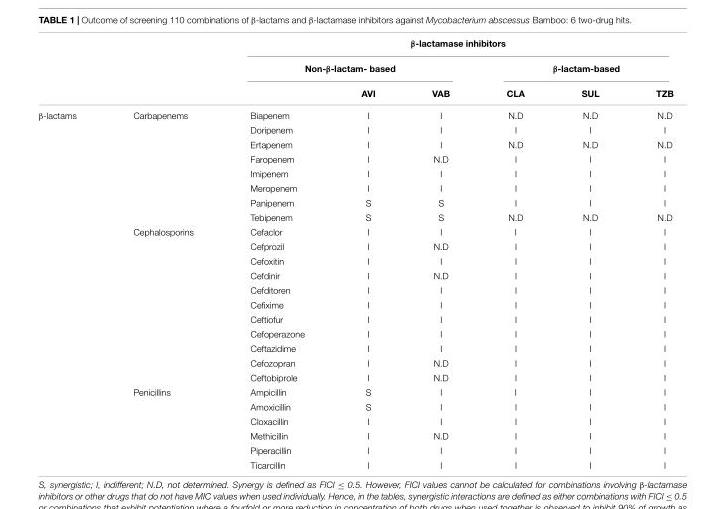table: (37, 37, 672, 469)
table column: (104, 37, 221, 469), (221, 37, 332, 469), (402, 37, 477, 469), (477, 37, 552, 469), (552, 37, 626, 469), (332, 37, 402, 469), (37, 37, 104, 469), (626, 37, 672, 469)
table column header: (37, 37, 672, 103)
table row: (37, 55, 672, 80), (37, 80, 672, 103), (37, 37, 672, 55), (37, 103, 672, 121), (37, 121, 672, 136), (37, 136, 672, 151), (37, 165, 672, 180), (37, 194, 672, 209), (37, 223, 672, 238), (37, 238, 672, 253), (37, 267, 672, 282), (37, 296, 672, 311), (37, 325, 672, 340), (37, 340, 672, 355), (37, 369, 672, 384), (37, 398, 672, 413), (37, 427, 672, 442), (37, 151, 672, 165), (37, 180, 672, 194), (37, 209, 672, 223), (37, 253, 672, 267), (37, 282, 672, 296), (37, 311, 672, 325), (37, 355, 672, 369), (37, 384, 672, 398), (37, 413, 672, 427), (37, 442, 672, 456), (37, 456, 672, 469)
table spanning cell: (37, 103, 104, 469), (221, 37, 672, 55), (221, 55, 477, 80), (477, 55, 672, 80)
